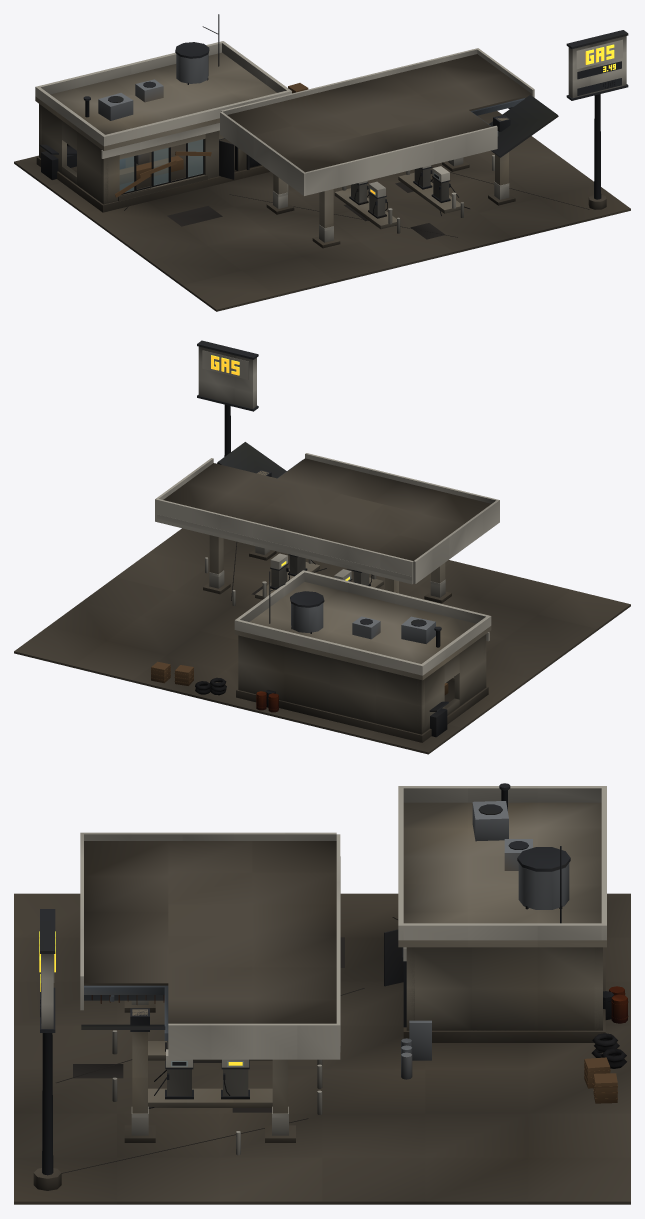
Rendered from gas_station.glb.
3 views of the same model, one above another, from view 1: azimuth 30°, elevation 25°; view 2: azimuth 150°, elevation 25°; view 3: azimuth 270°, elevation 25° (orthographic). The views are drawn at different scales.
Parts seen in each view (by area): view 1: concrete_dark, paint2, concrete, metal_dark, paint, metal_bare, asphalt, wood, glass, light_amber; view 2: concrete_dark, concrete, paint2, metal_dark, paint, metal_bare, wood; view 3: concrete_dark, concrete, paint2, metal_dark, metal_bare, paint, asphalt, steel_beam, wood, rubber, rust.
Part boxes in pixels (x1=…): concrete_dark: x1=14, y1=54, x2=630, y2=311; paint2: x1=35, y1=36, x2=626, y2=242; concrete: x1=35, y1=52, x2=508, y2=229; metal_dark: x1=39, y1=14, x2=628, y2=218; paint: x1=101, y1=39, x2=622, y2=230; metal_bare: x1=98, y1=54, x2=208, y2=169; asphalt: x1=124, y1=167, x2=589, y2=239; wood: x1=115, y1=83, x2=308, y2=197; glass: x1=120, y1=139, x2=439, y2=195; light_amber: x1=370, y1=44, x2=615, y2=194; concrete_dark: x1=14, y1=458, x2=630, y2=754; concrete: x1=209, y1=470, x2=491, y2=734; paint2: x1=155, y1=346, x2=499, y2=675; metal_dark: x1=197, y1=340, x2=454, y2=737; paint: x1=157, y1=350, x2=489, y2=641; metal_bare: x1=291, y1=603, x2=435, y2=643; wood: x1=151, y1=661, x2=448, y2=695; concrete_dark: x1=14, y1=841, x2=630, y2=1204; concrete: x1=132, y1=802, x2=606, y2=1113; paint2: x1=41, y1=786, x2=606, y2=1155; metal_dark: x1=40, y1=783, x2=613, y2=1175; metal_bare: x1=401, y1=801, x2=569, y2=1079; paint: x1=41, y1=856, x2=406, y2=1117; asphalt: x1=56, y1=917, x2=397, y2=1173; steel_beam: x1=84, y1=985, x2=168, y2=1040; wood: x1=584, y1=1057, x2=617, y2=1103; rubber: x1=148, y1=1033, x2=626, y2=1108; rust: x1=609, y1=986, x2=628, y2=1023.
Size of what is drawn, in the model's own units: 26.38 by 10.16 by 22.
